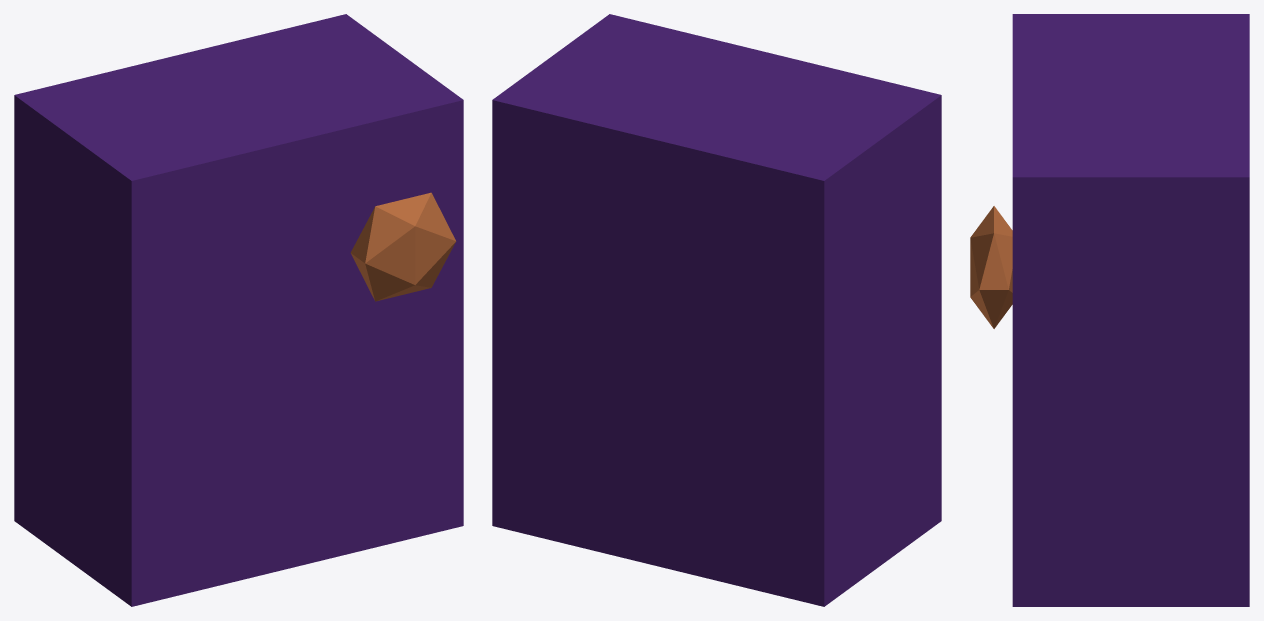
Rendered from body.glb.
The picture shows the model from 3 angles, left to right: view 1: azimuth 30°, elevation 25°; view 2: azimuth 150°, elevation 25°; view 3: azimuth 270°, elevation 25°; orthographic projection.
Visible parts, largest first — view 1: chest, chest_emblem; view 2: chest; view 3: chest, chest_emblem.
Boxes of the visible parts, x1,y1,x2,y2 form: chest: [14, 14, 463, 606]; chest_emblem: [350, 192, 456, 301]; chest: [492, 14, 941, 606]; chest: [1012, 14, 1249, 606]; chest_emblem: [970, 206, 1012, 328].
Size of the model in its own units: 0.62 by 0.76 by 0.4483.
